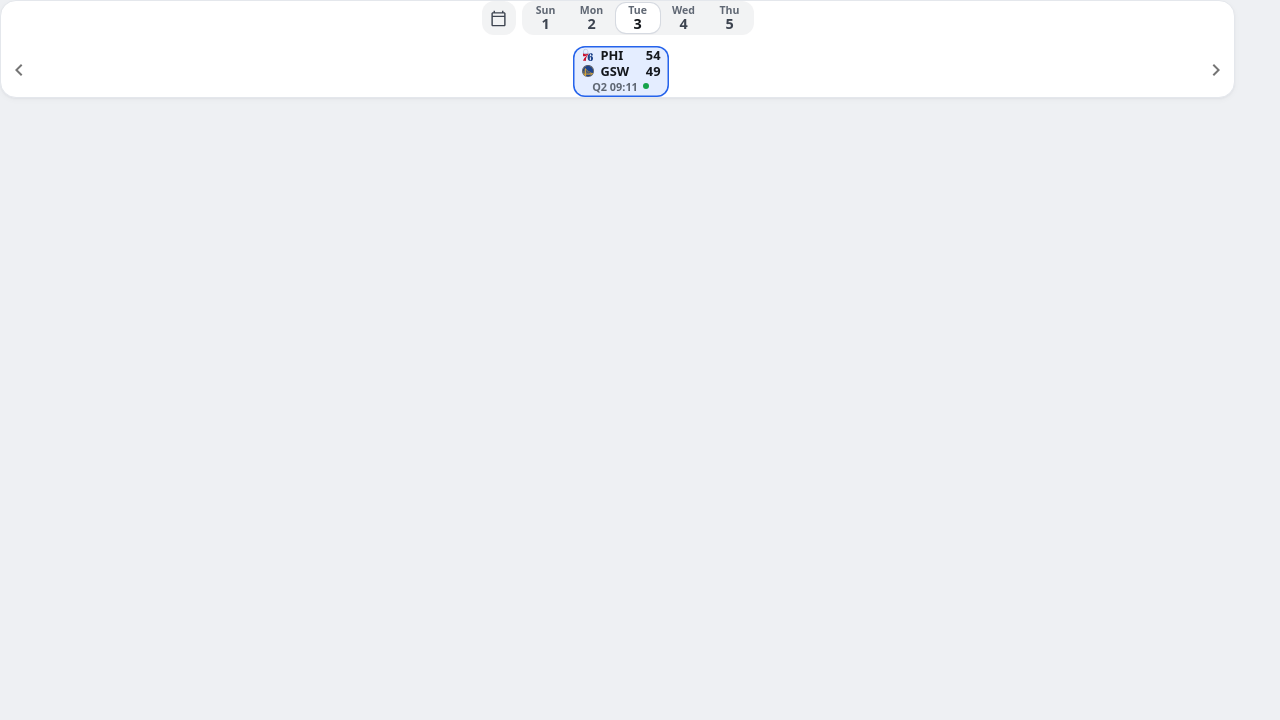
Test: Schedule › date picker › browses months without changing the date until a day is picked
Click the button named "Select game date".
click(498, 18)  # box x1=482 y1=1 x2=516 y2=35
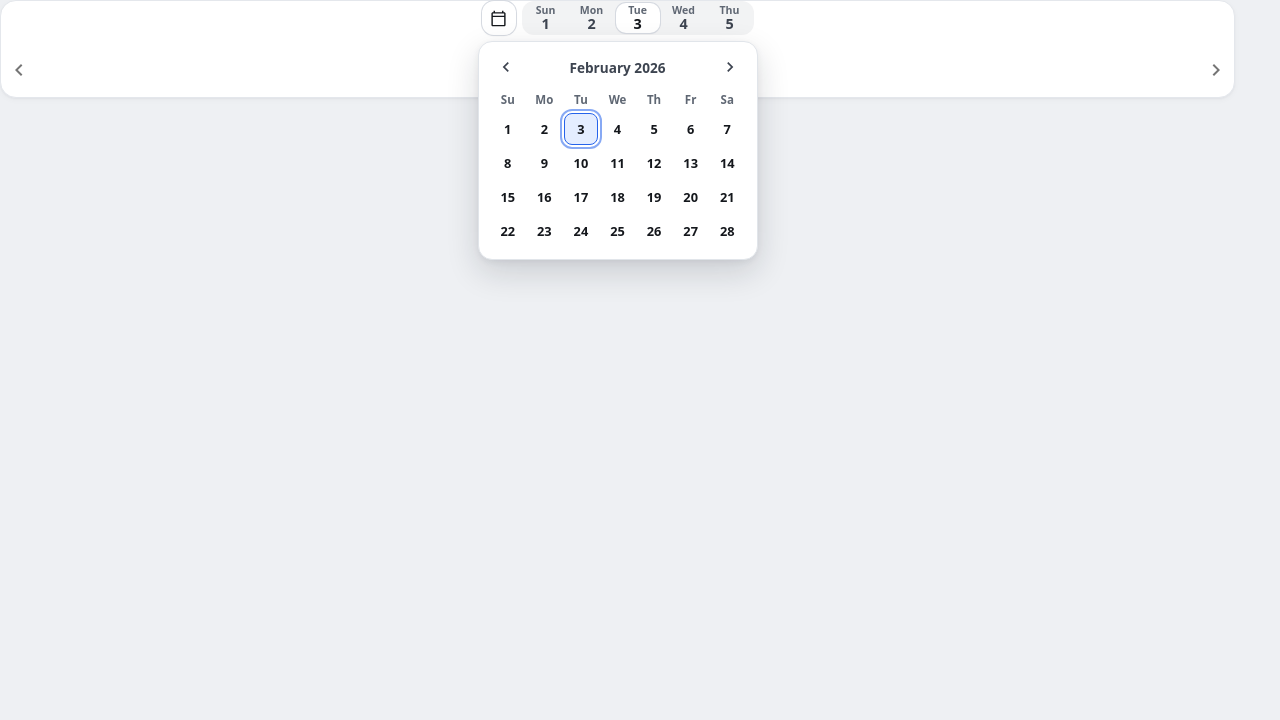
Now the button named "Select game date" is expanded, box x1=482 y1=1 x2=516 y2=35
Now the text "February 2026" is shown, box x1=570 y1=58 x2=666 y2=76
Click the button named "Previous month".
click(506, 67)  # box x1=490 y1=52 x2=520 y2=82
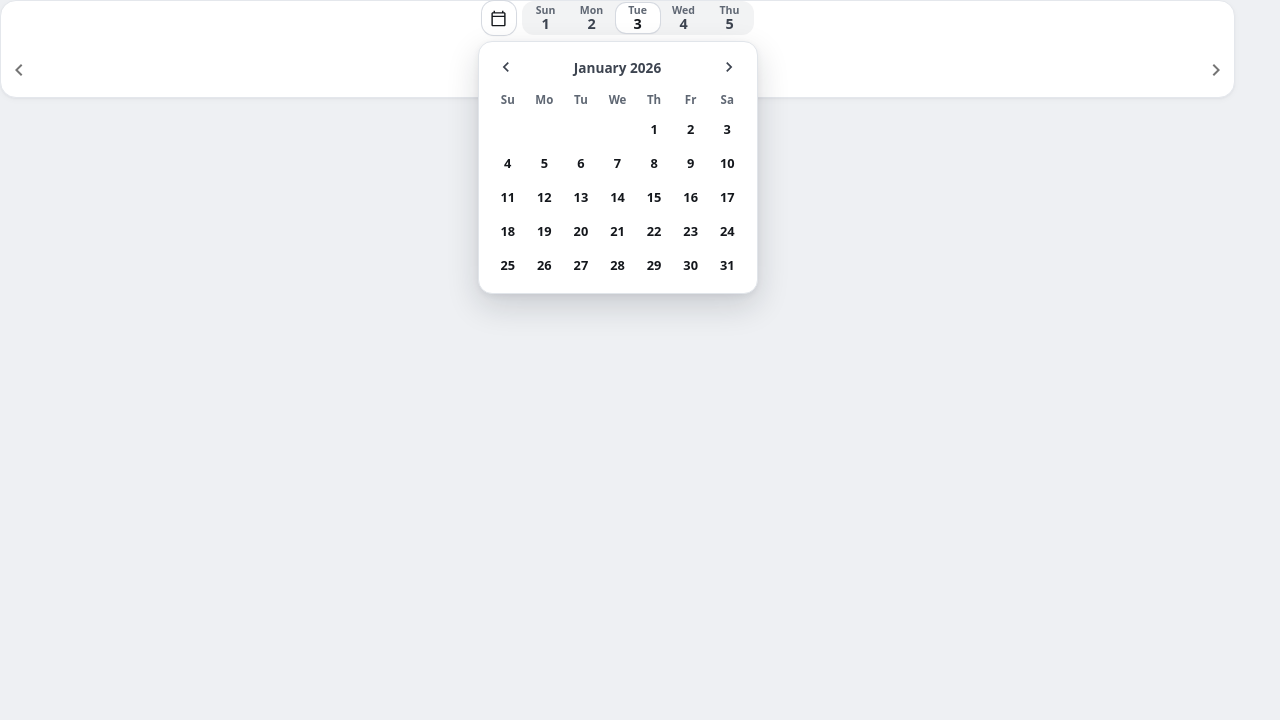
Click the button named "Previous month".
click(506, 67)  # box x1=490 y1=52 x2=520 y2=82
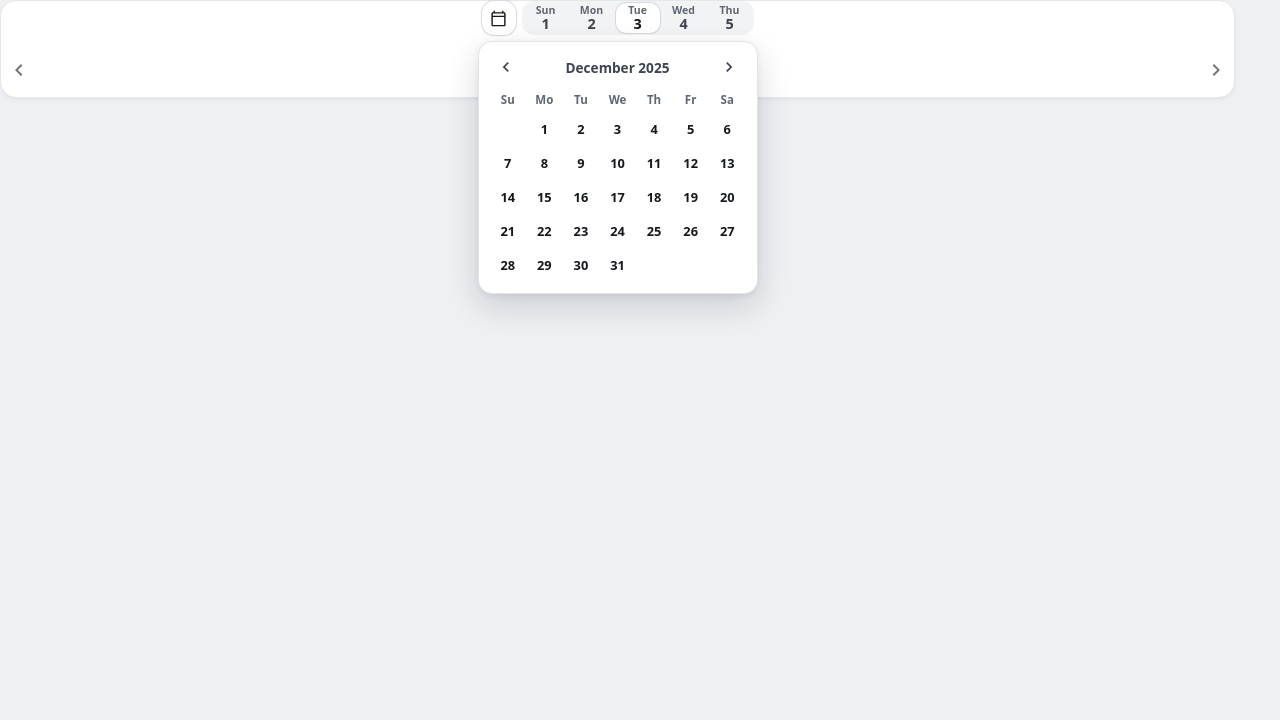
Now the dialog named "Choose a date" is shown, box x1=478 y1=41 x2=758 y2=294
Now the text "December 2025" is shown, box x1=566 y1=58 x2=669 y2=76
Click the button named "Thu, Dec 25".
click(654, 231)  # box x1=637 y1=215 x2=671 y2=247
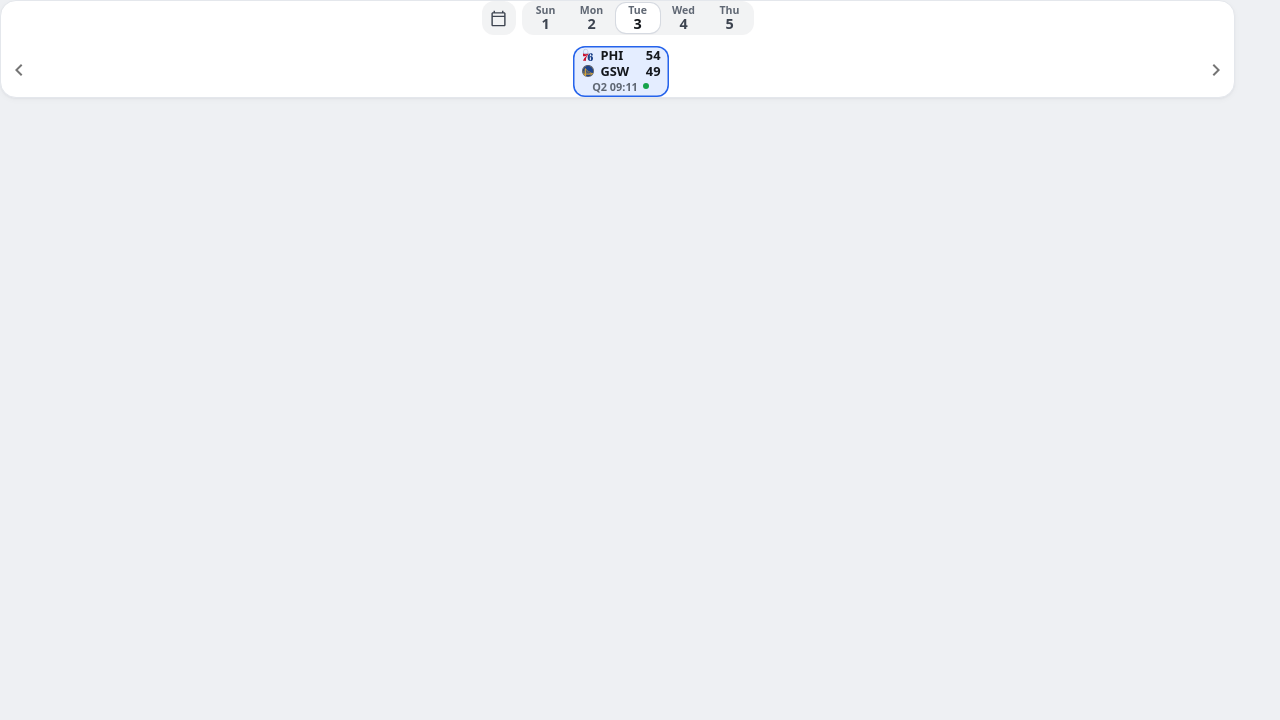
Now the dialog is gone
